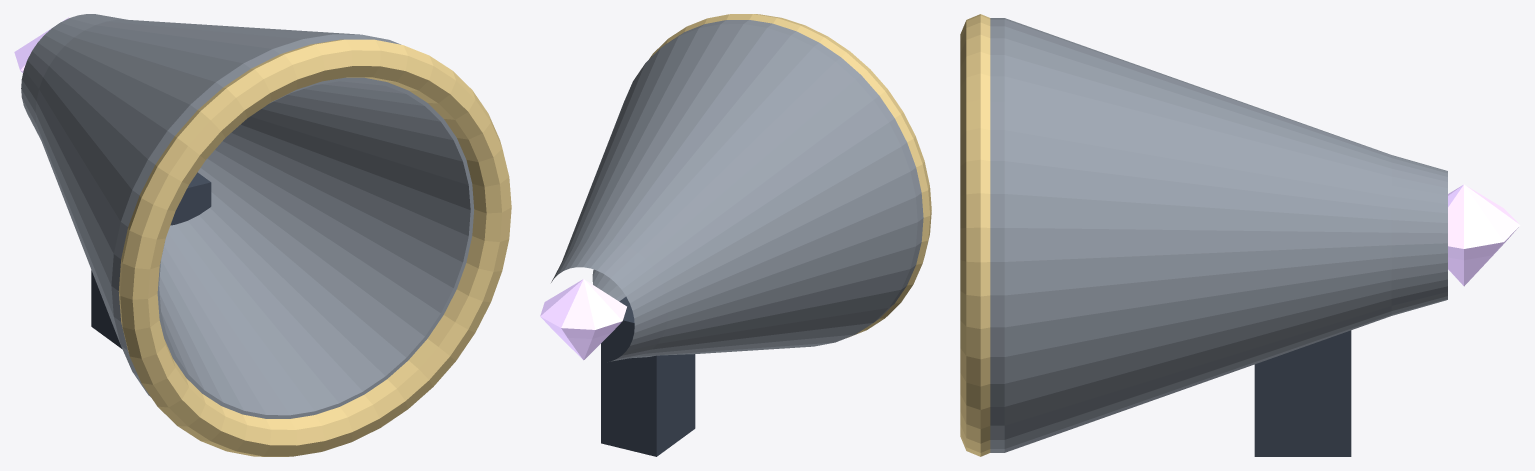
File: niel_relic.gltf
3 renders of one model, left to right at view 1: azimuth 30°, elevation 25°; view 2: azimuth 150°, elevation 25°; view 3: azimuth 270°, elevation 25°, orthographic. The views are drawn at different scales.
Visible parts, largest first — view 1: niel_loudhailer_relic_review; view 2: niel_loudhailer_relic_review; view 3: niel_loudhailer_relic_review.
Part boxes in pixels (<box>): niel_loudhailer_relic_review: <box>14,14,511,456</box>; niel_loudhailer_relic_review: <box>540,14,931,456</box>; niel_loudhailer_relic_review: <box>960,14,1520,456</box>.
Size of the model in its own units: 0.55 by 0.555 by 0.695.
